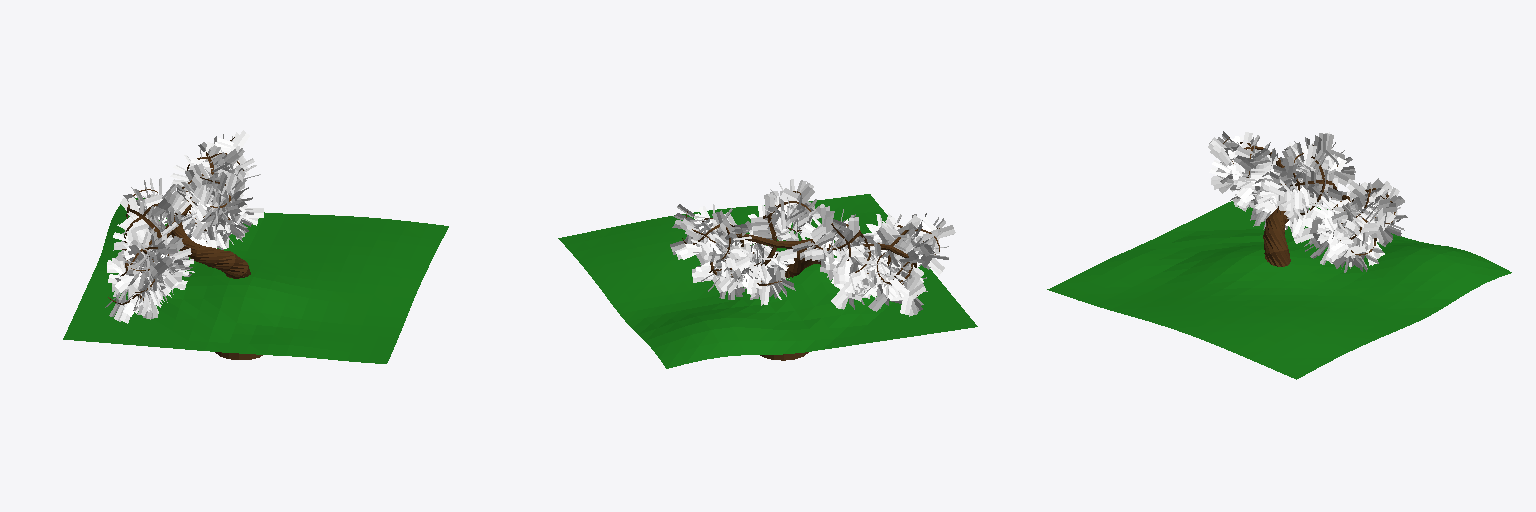
The model's file is tree_scene.obj.
3 renders of one model, left to right at view 1: azimuth 30°, elevation 25°; view 2: azimuth 150°, elevation 25°; view 3: azimuth 270°, elevation 25°, orthographic.
Visible parts, largest first — view 1: Ground_Plane, Leaves, Trunk; view 2: Ground_Plane, Leaves, Trunk; view 3: Ground_Plane, Leaves, Trunk.
Boxes of the visible parts, x1,y1,x2,y2 form: Ground_Plane: [63, 198, 448, 363]; Leaves: [105, 130, 263, 323]; Trunk: [108, 137, 262, 359]; Ground_Plane: [558, 194, 977, 368]; Leaves: [670, 179, 955, 316]; Trunk: [682, 191, 939, 360]; Ground_Plane: [1047, 201, 1511, 379]; Leaves: [1208, 131, 1407, 272]; Trunk: [1223, 137, 1395, 266].
Bounding box in the file's own units: 50.08 × 21.21 × 50.13.